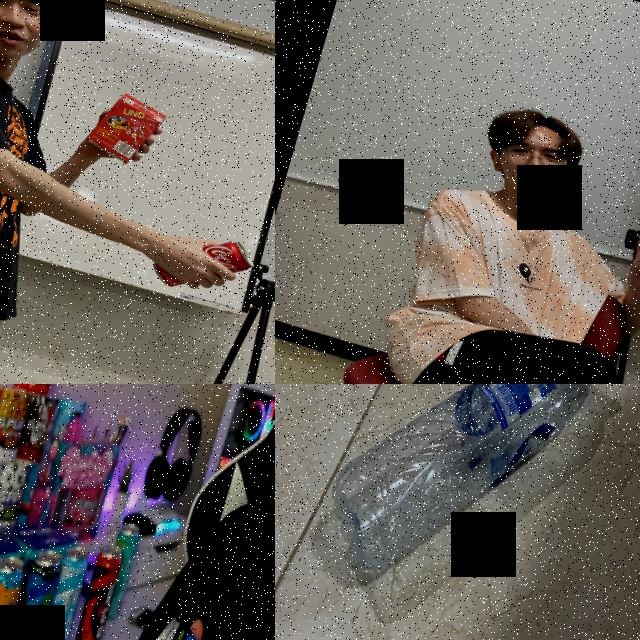bottle: (306, 384, 629, 639)
can: (147, 218, 257, 308), (0, 543, 70, 640), (31, 545, 94, 640), (68, 542, 127, 640), (96, 521, 144, 621), (0, 553, 31, 640)
